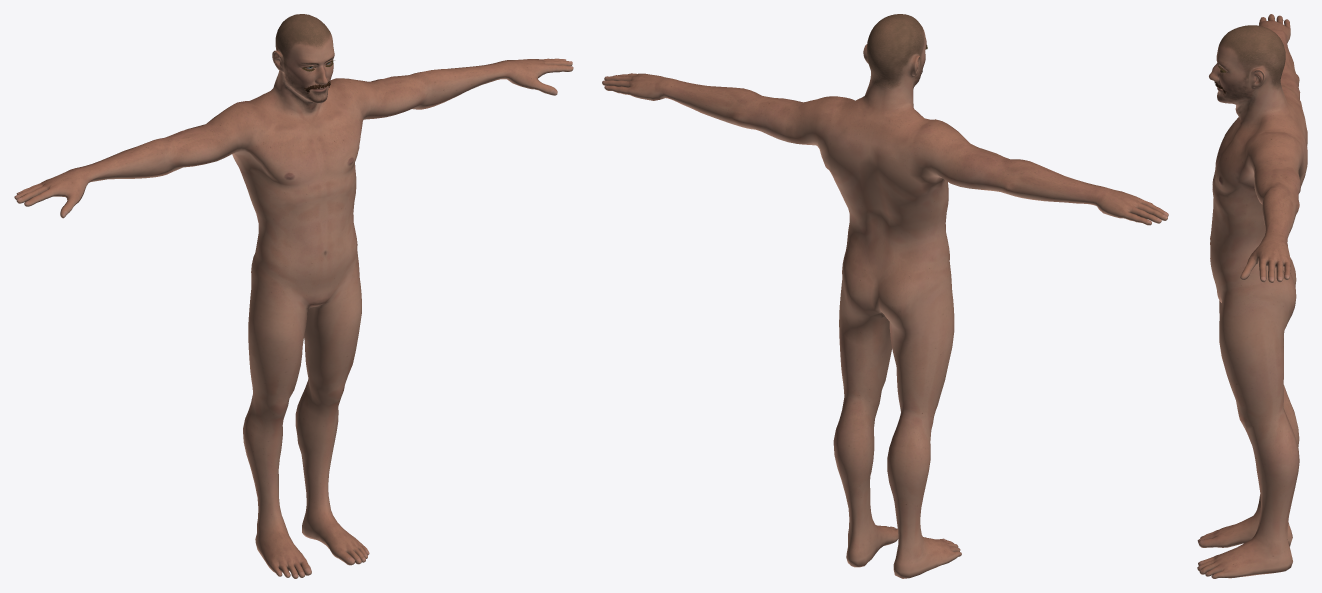
Rendered from ottomansoldier3.obj.
3 renders of one model, left to right at view 1: azimuth 30°, elevation 25°; view 2: azimuth 150°, elevation 25°; view 3: azimuth 270°, elevation 25°, orthographic. The views are drawn at different scales.
Visible parts, largest first — view 1: Body; view 2: Body; view 3: Body.
Boxes of the visible parts, box(x1,y1,x2,y2) form: Body: box(14, 14, 573, 578); Body: box(602, 14, 1168, 578); Body: box(1197, 14, 1307, 578).
Bounding box in the file's own units: 194 × 179 × 33.74.
2 materials, 2 textured.
